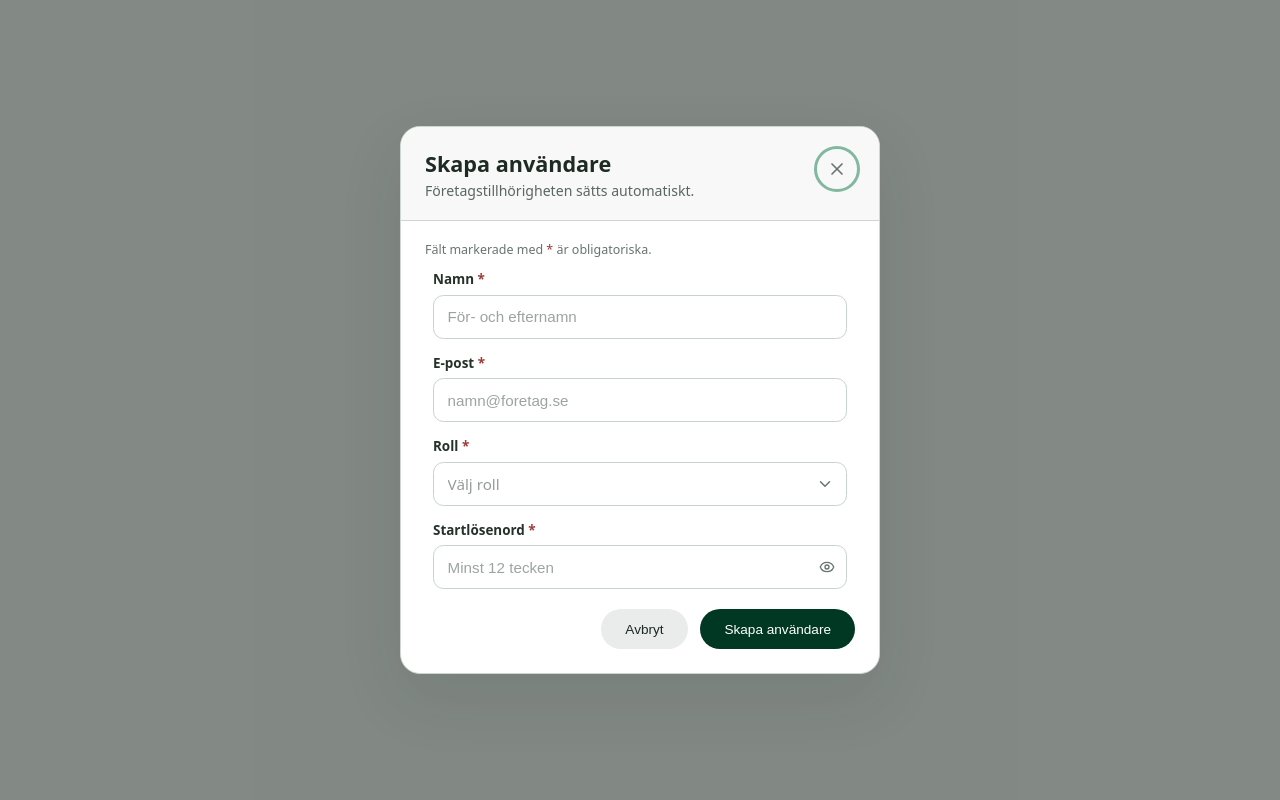
CreateUserModal › shows errors for every empty required field and does not submit
This screenshot has width=1280, height=800.
Click the button "Skapa användare" at (778, 629), box [700,609,855,649]
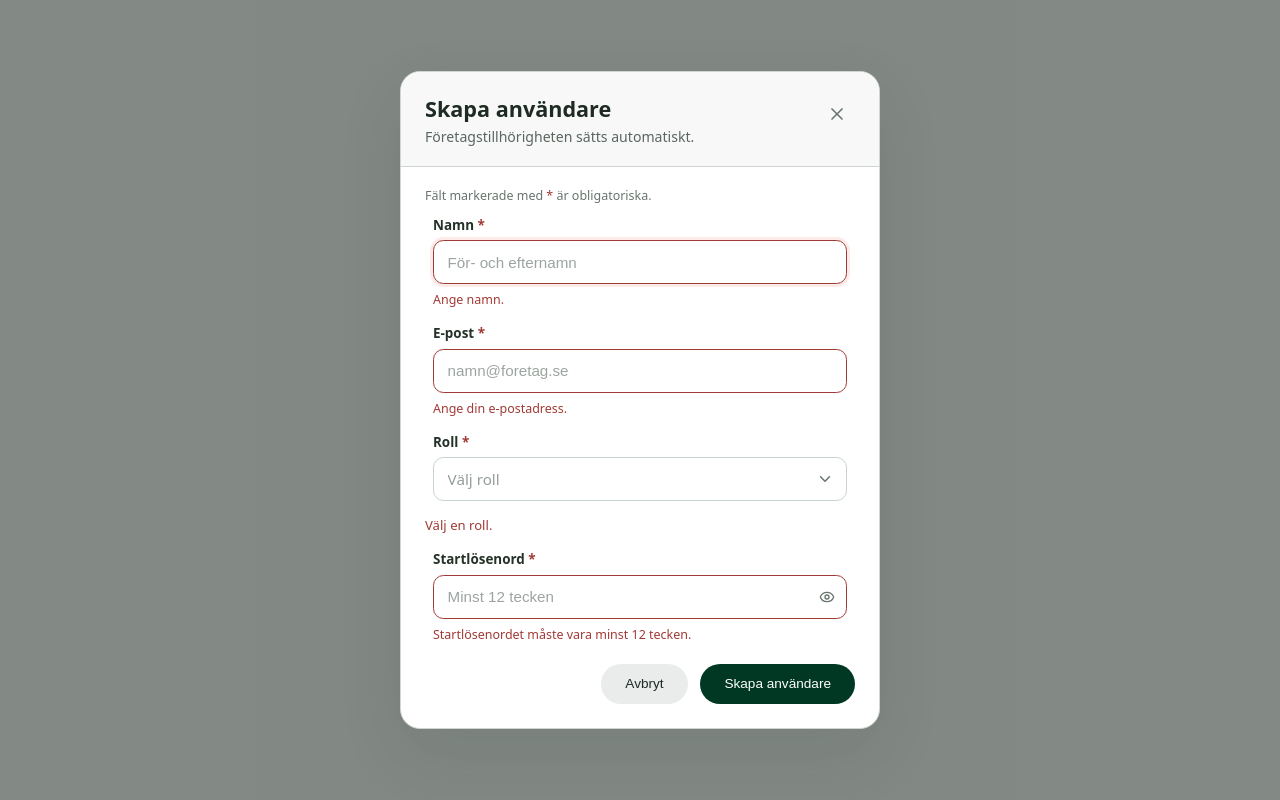
Result: the text "Ange namn." is shown at [433,291,504,308]
Result: the text "Ange din e-postadress." is shown at [433,400,567,417]
Result: the text "Välj en roll." is shown at [425,516,492,534]
